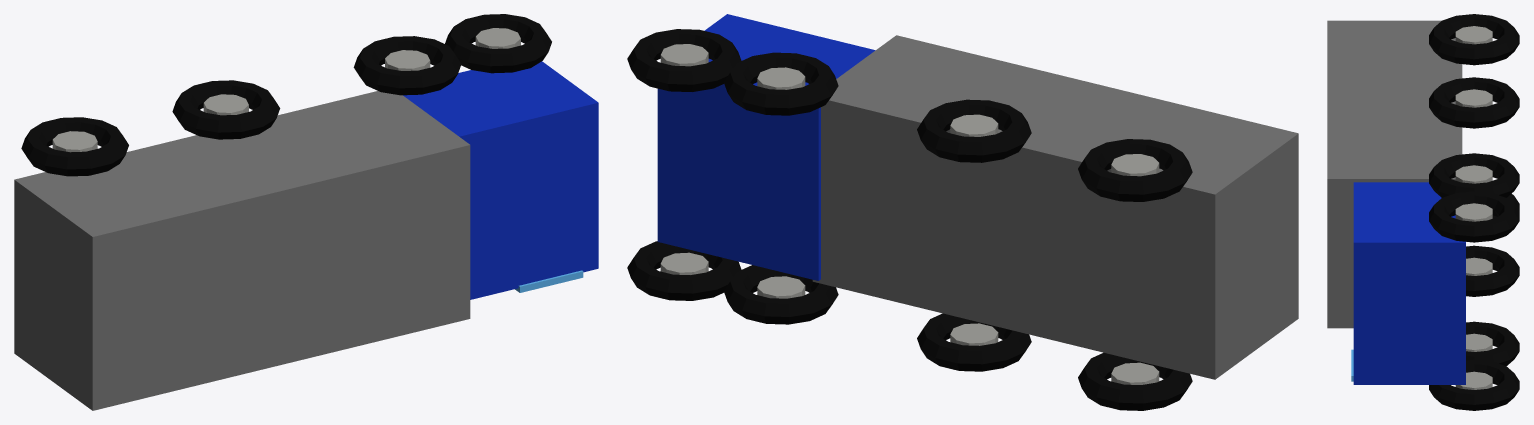
The model's file is truck.obj.
3 renders of one model, left to right at view 1: azimuth 30°, elevation 25°; view 2: azimuth 150°, elevation 25°; view 3: azimuth 270°, elevation 25°, orthographic. The views are drawn at different scales.
Visible parts, largest first — view 1: XYT_generated; view 2: XYT_generated; view 3: XYT_generated.
Part boxes in pixels (x1=…): XYT_generated: x1=14, y1=14, x2=598, y2=410; XYT_generated: x1=627, y1=14, x2=1298, y2=410; XYT_generated: x1=1327, y1=14, x2=1519, y2=410.
Size of the model in its own units: 3.56 by 1.36 by 1.28.
